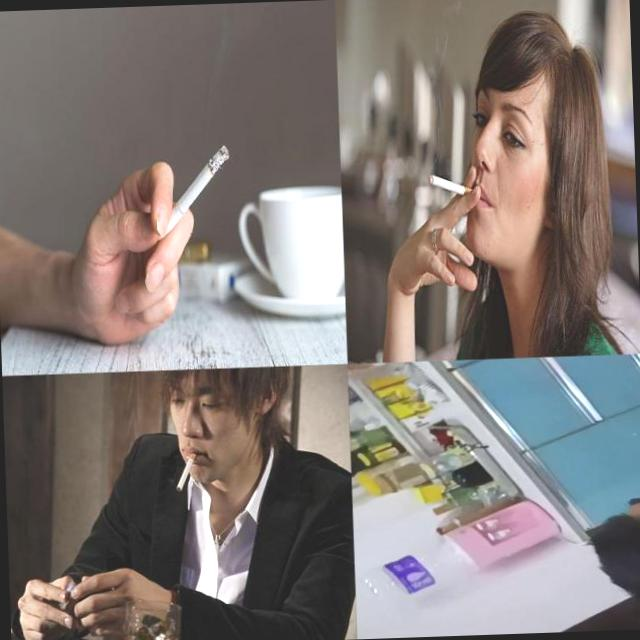cigarette: (154, 142, 234, 245), (428, 167, 476, 198), (174, 452, 198, 493)
